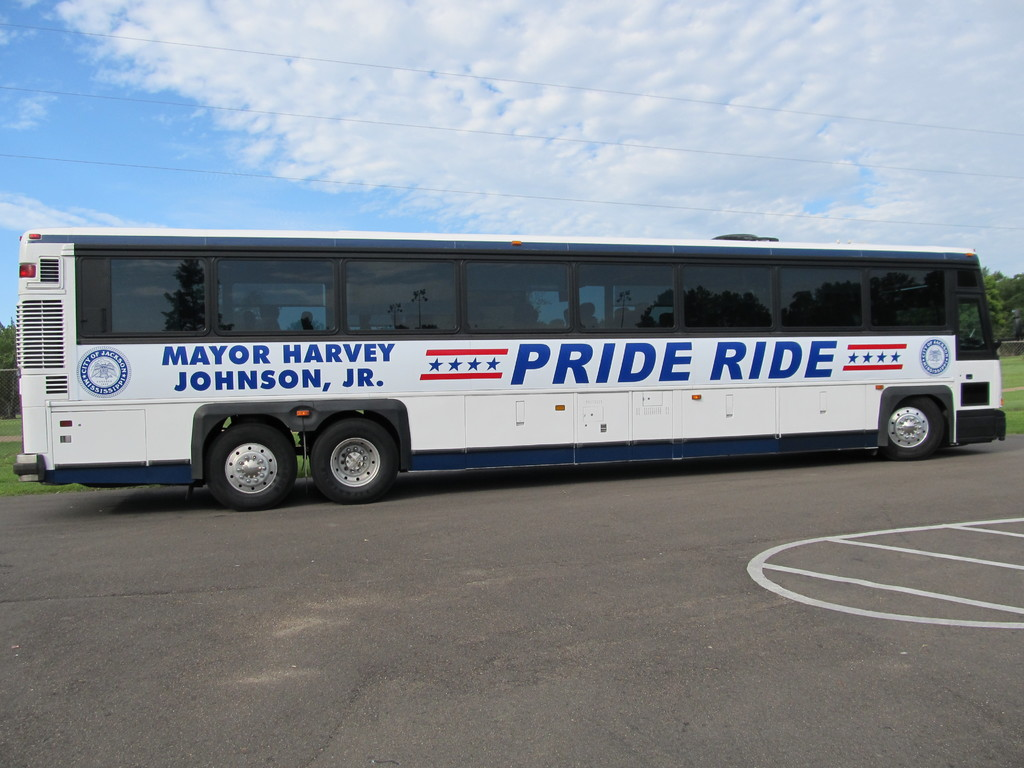Bus: (11, 224, 1016, 504)
